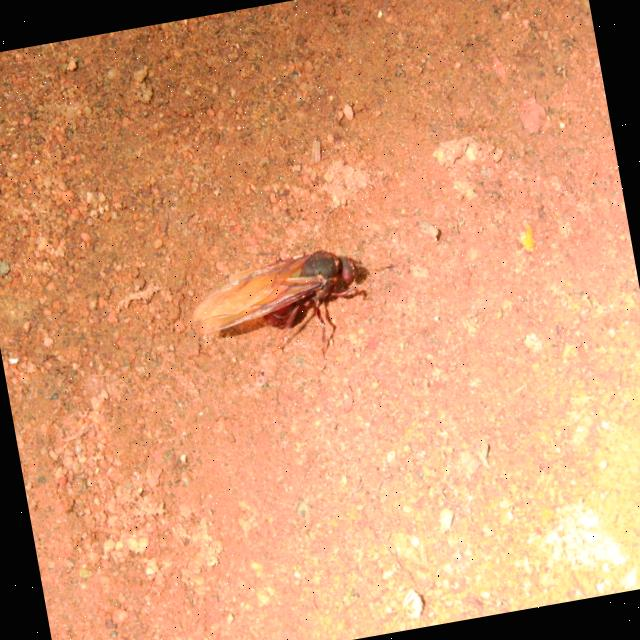Alive-Female-Alate: (184, 243, 376, 393)
